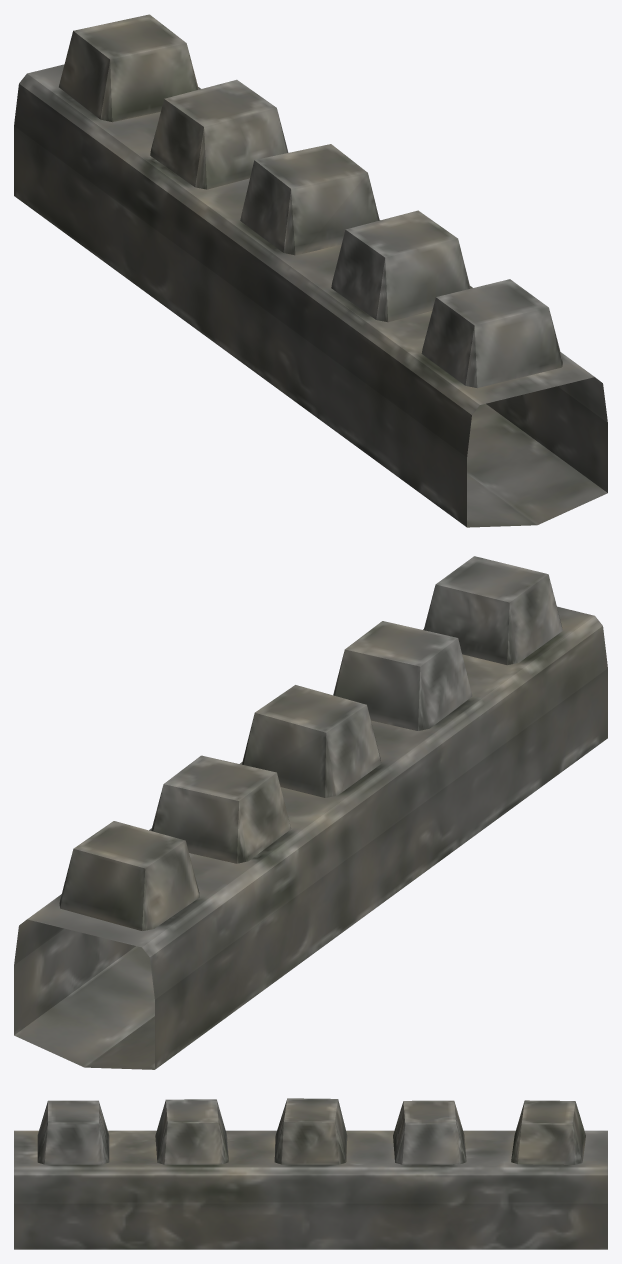
File: Wall_low.obj
3 renders of one model, top to bottom at view 1: azimuth 30°, elevation 25°; view 2: azimuth 150°, elevation 25°; view 3: azimuth 270°, elevation 25°, orthographic. The views are drawn at different scales.
Parts seen in each view (by area): view 1: Wall_low; view 2: Wall_low; view 3: Wall_low.
Part boxes in pixels (box(x1,y1,x2,y2)): Wall_low: box(14, 14, 607, 527); Wall_low: box(14, 556, 607, 1069); Wall_low: box(14, 1098, 607, 1249).
Bounding box in the file's own units: 1.8 × 2.35 × 10.
